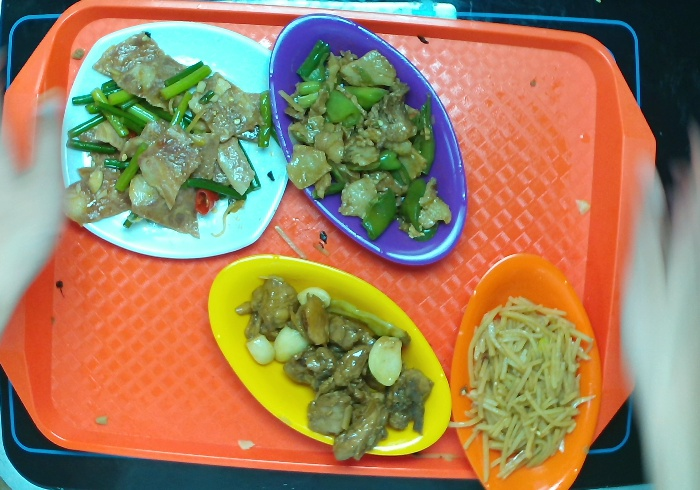RJxy-Fen_Hong_Tuo_Yuan: (268, 12, 468, 267)
RJxy-Huang_Se_Tuo_Yuan: (207, 252, 453, 457)
RJxy-Ju_Huang_Tuo_Yuan: (450, 251, 603, 490)
RJxy-Si_Fang_Die: (59, 19, 291, 261)
